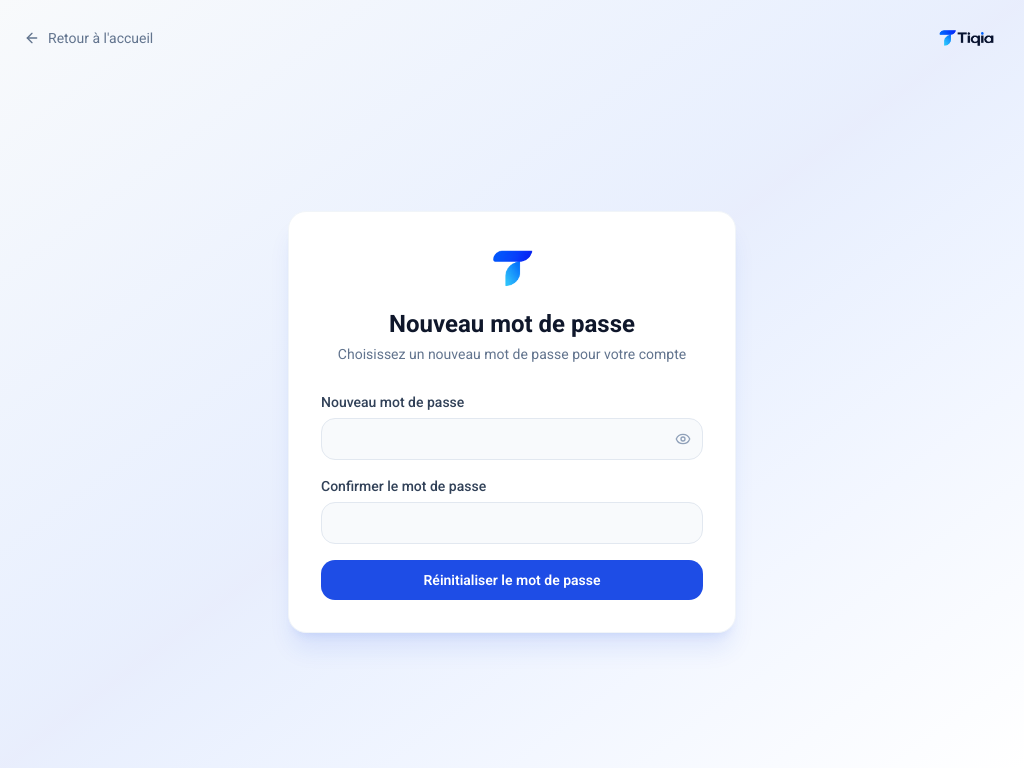
Scenario: ResetPasswordPage › resets the password and shows a success screen
Step 1. Type "password123" into the password field labelled "Nouveau mot de passe" → (512, 439), box [321,418,703,460]
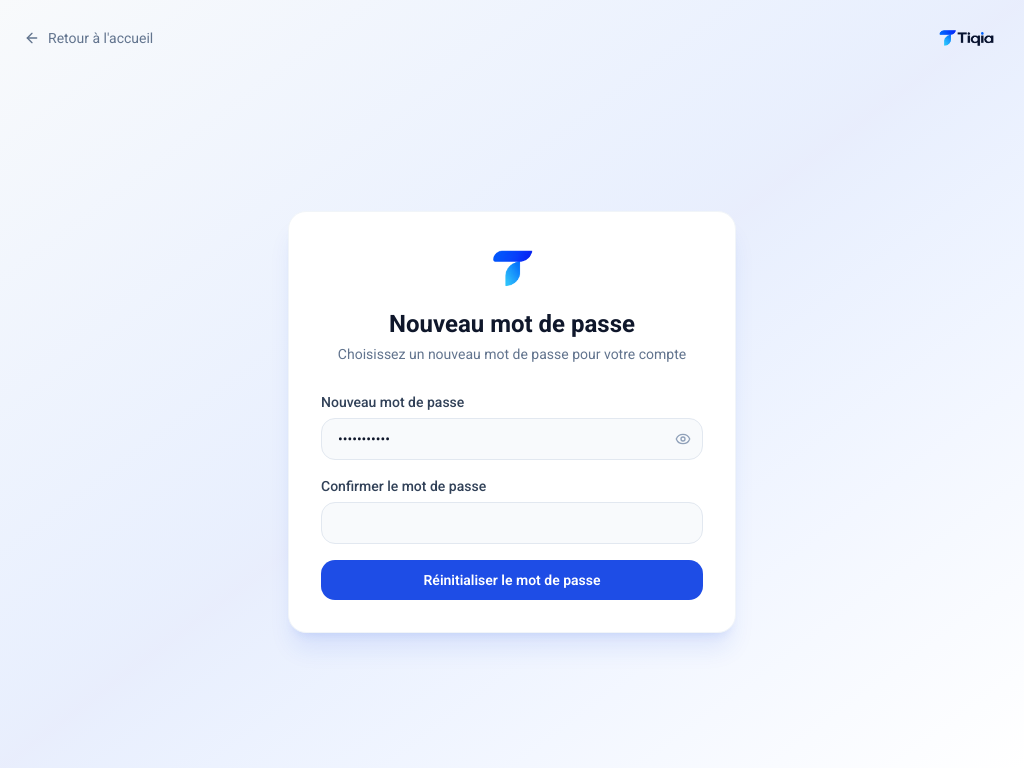
Step 2. Type "password123" into the password field labelled "Confirmer le mot de passe" → (512, 523), box [321,502,703,544]
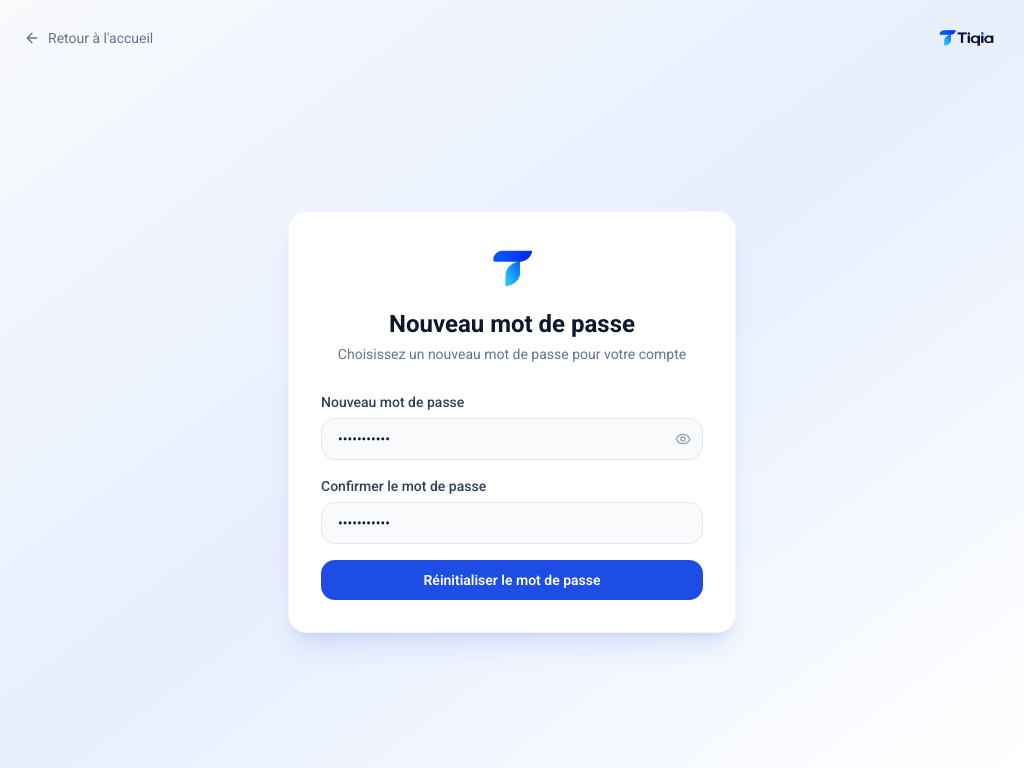
Step 3. Click the button "Réinitialiser le mot de passe" → (512, 580), box [321,560,703,600]
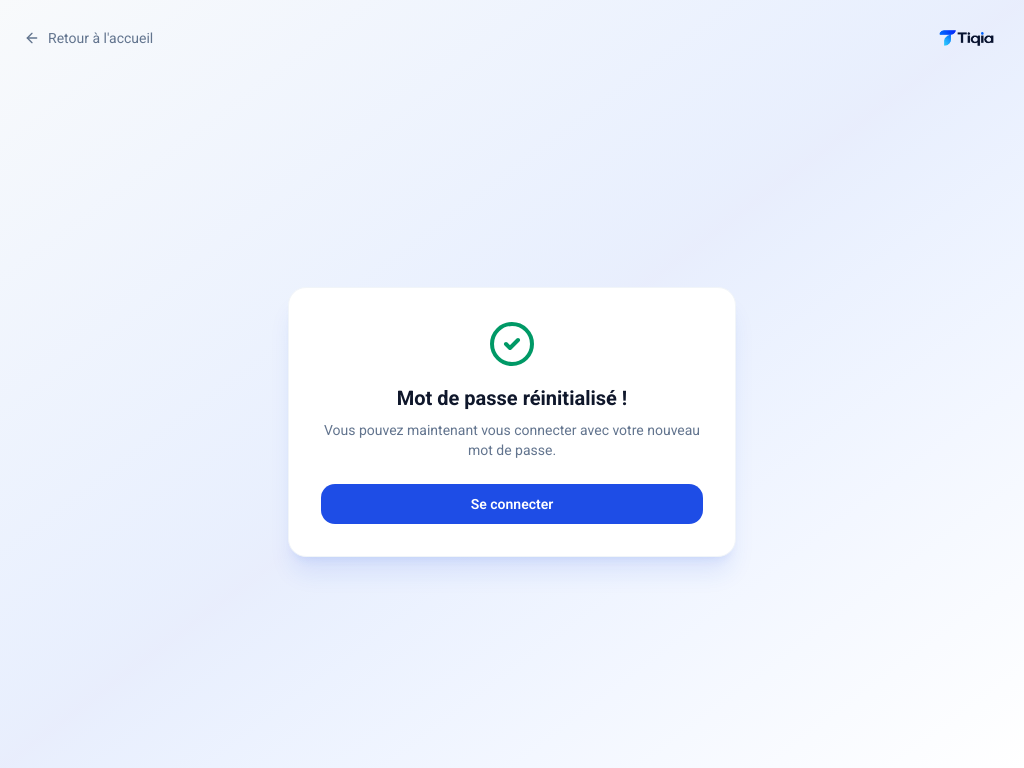
Now the heading "Mot de passe réinitialisé !" is shown, box [397,386,627,410]
